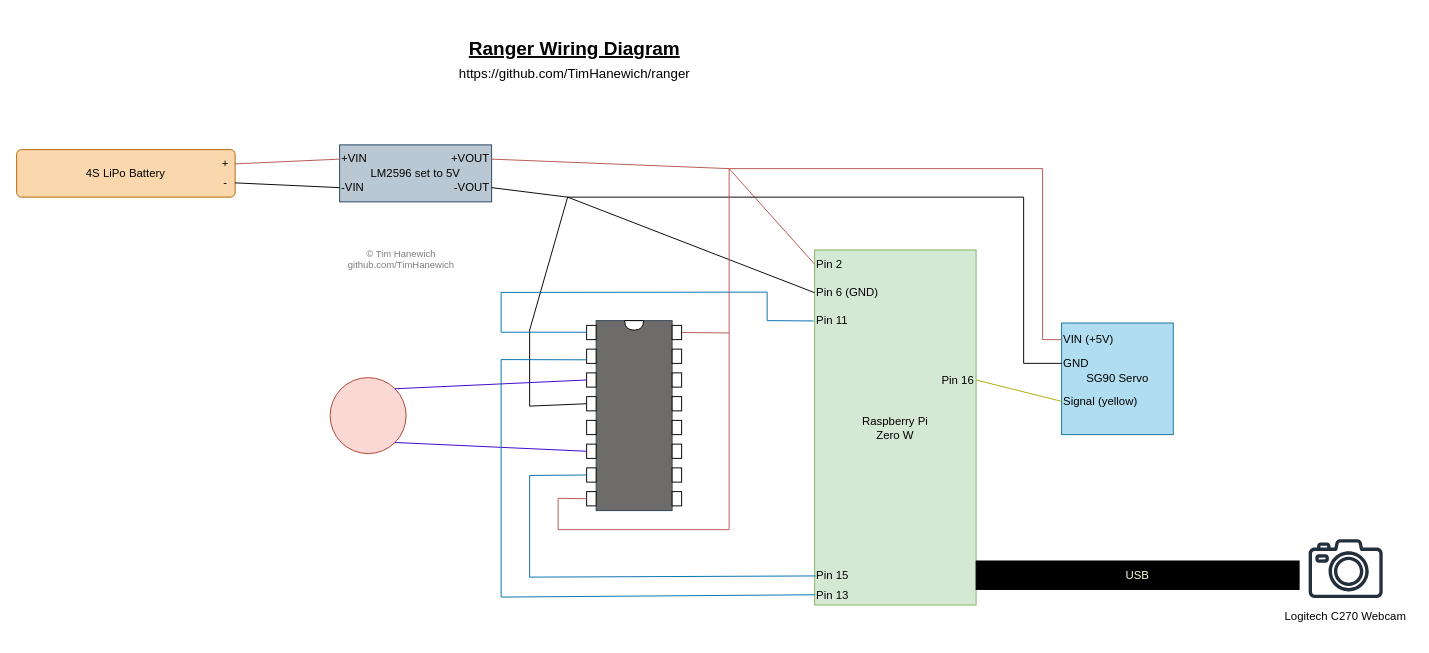
Some shapes in this 1429 by 653 pixel diagram are drawn without their labels. Here are the shapes that lost their labels. From the top down, the centre of each, then its label:
(367,415): TT Motor
(633,415): L293D
